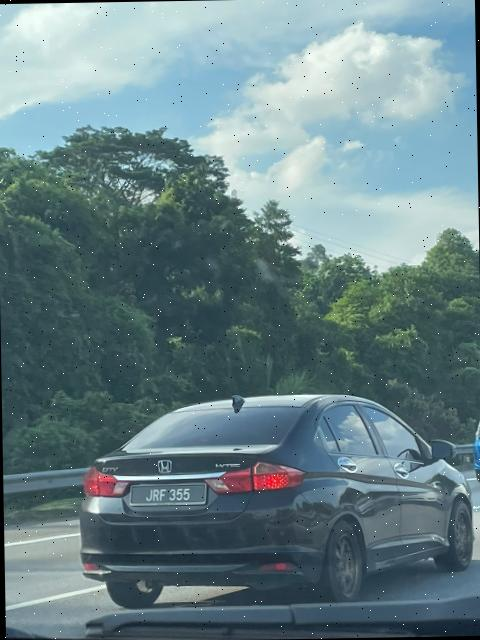License_Plate: (141, 482, 202, 508)
car: (72, 381, 480, 616)
